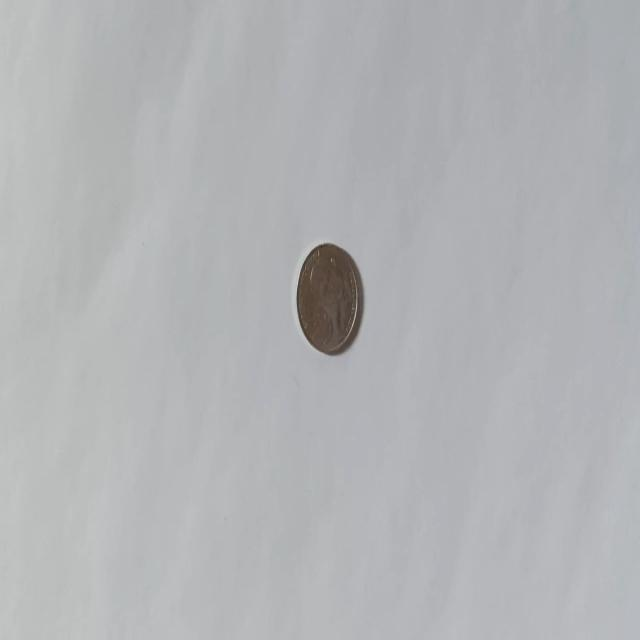seribu rupiah koin: (294, 240, 360, 356)
